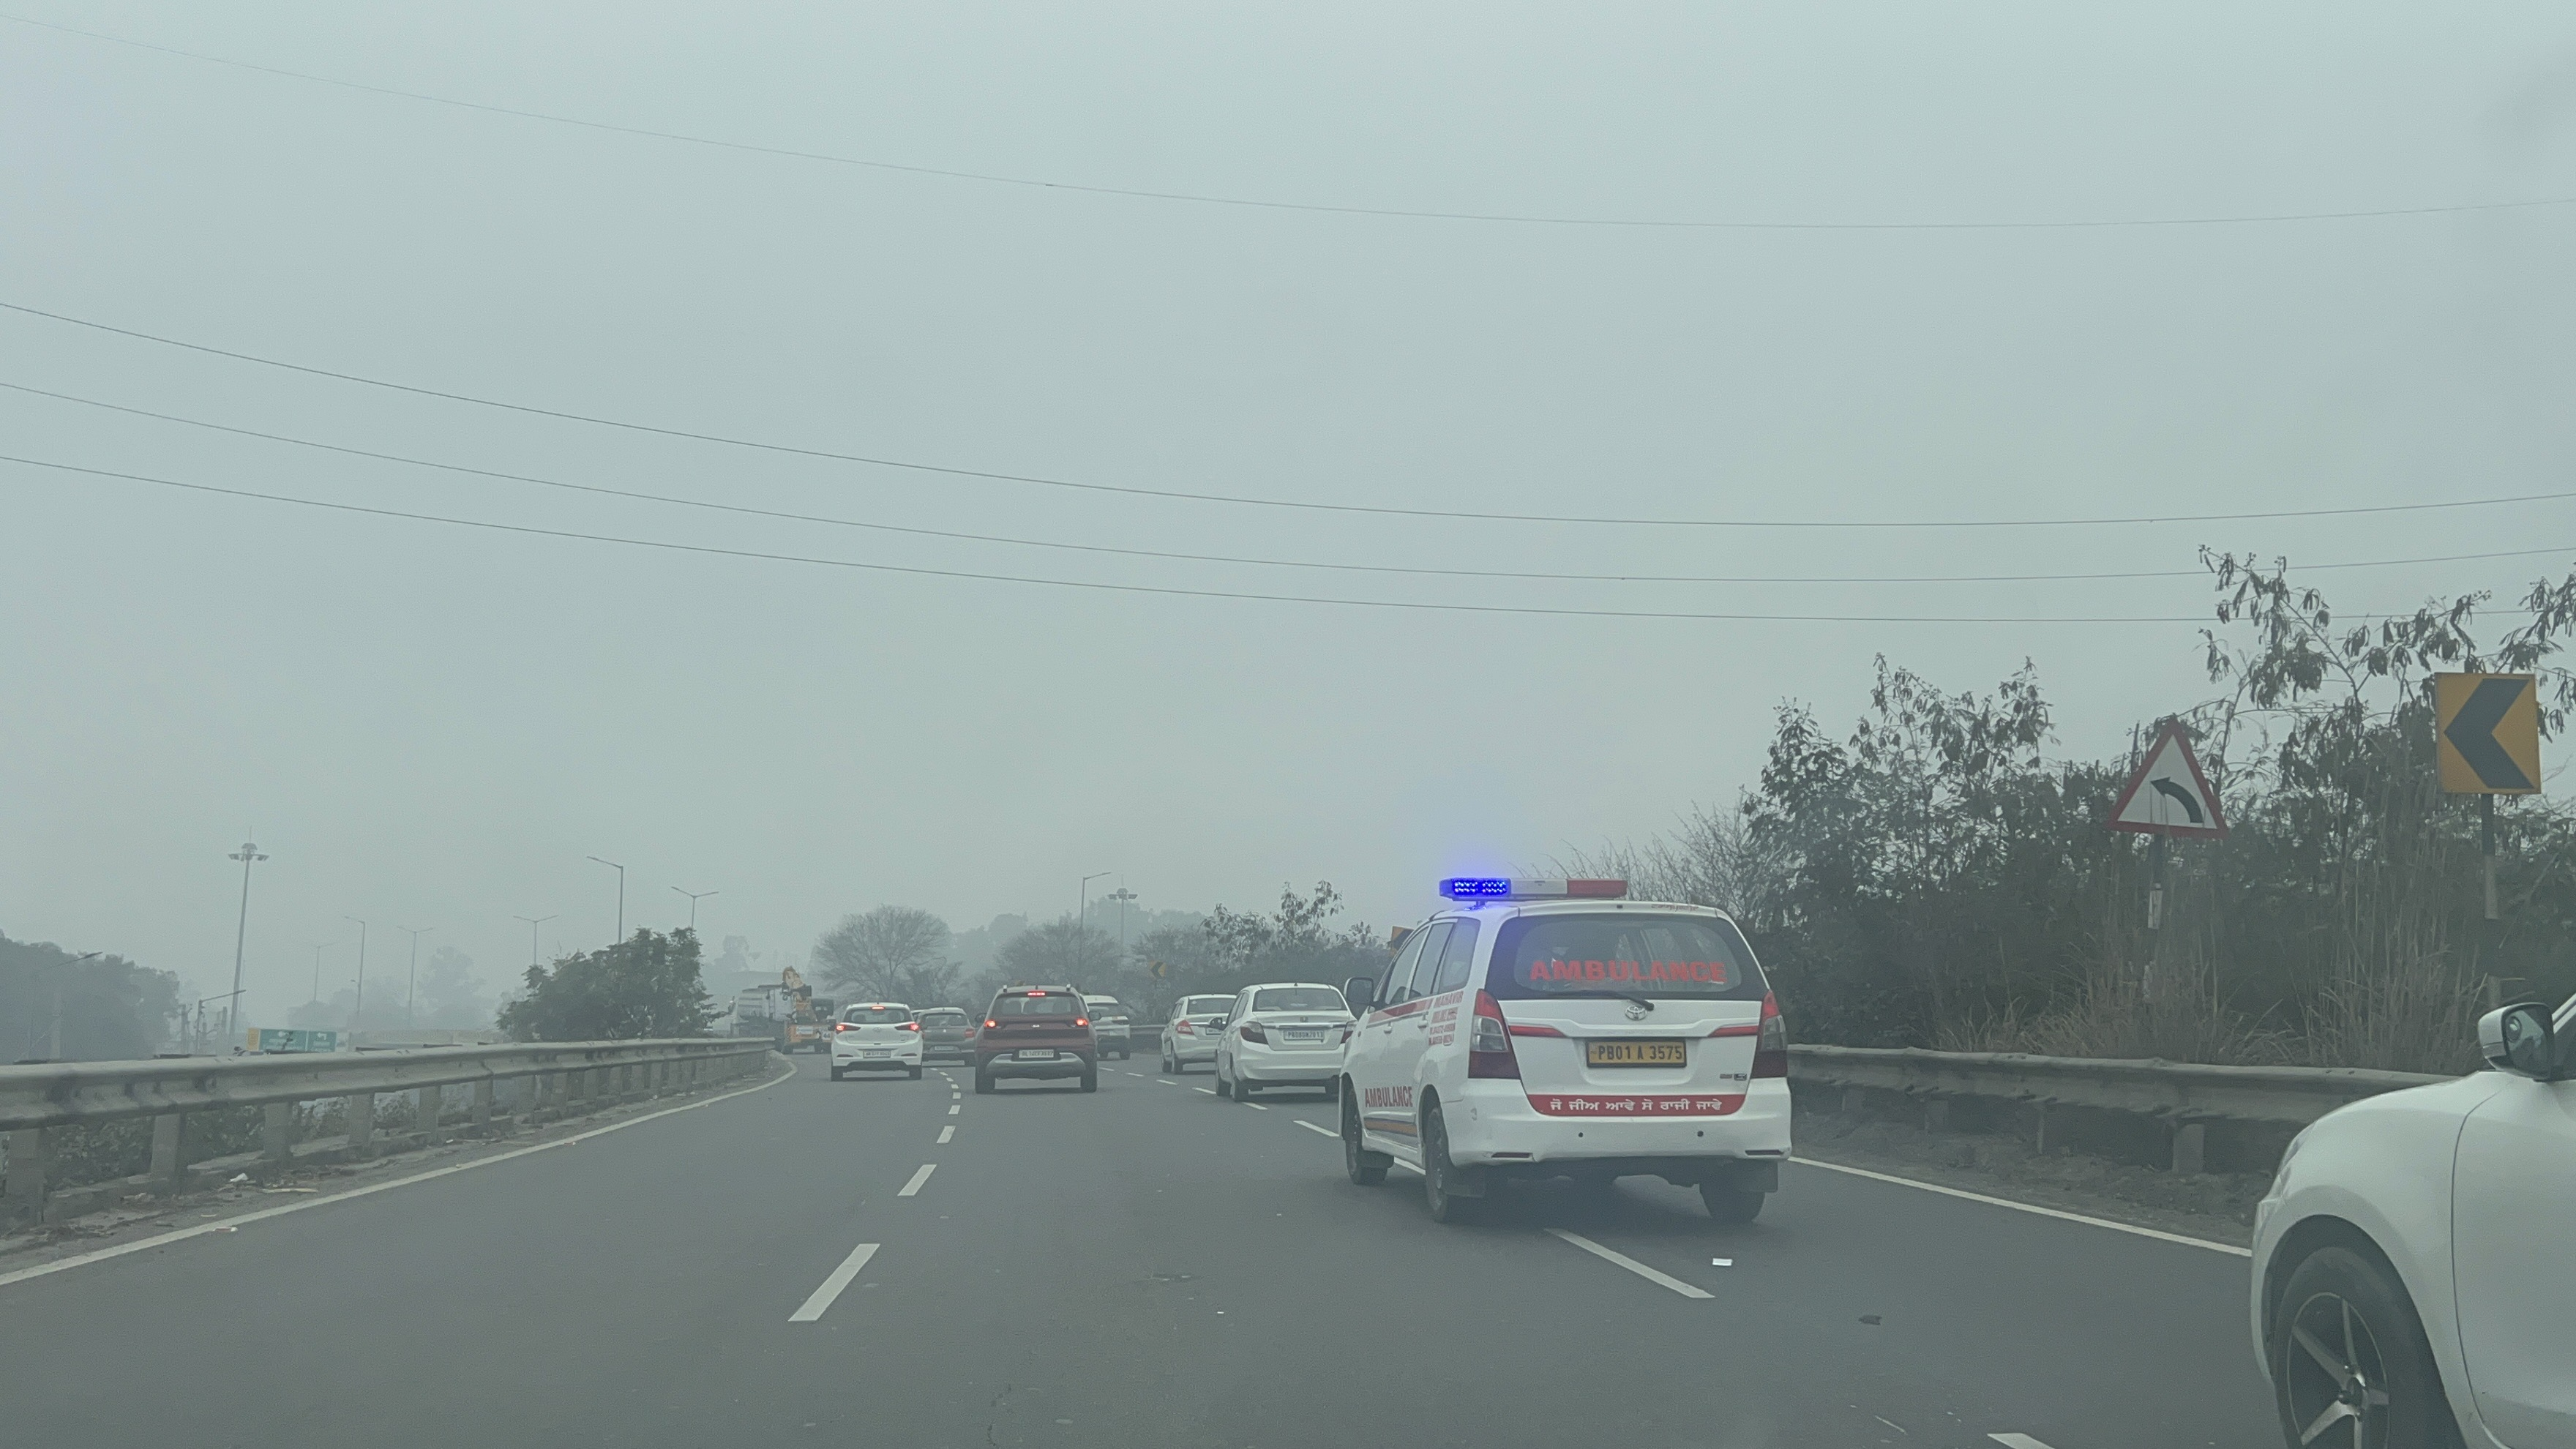General: (2415, 667, 2564, 803)
Warning: (2084, 706, 2242, 849)
